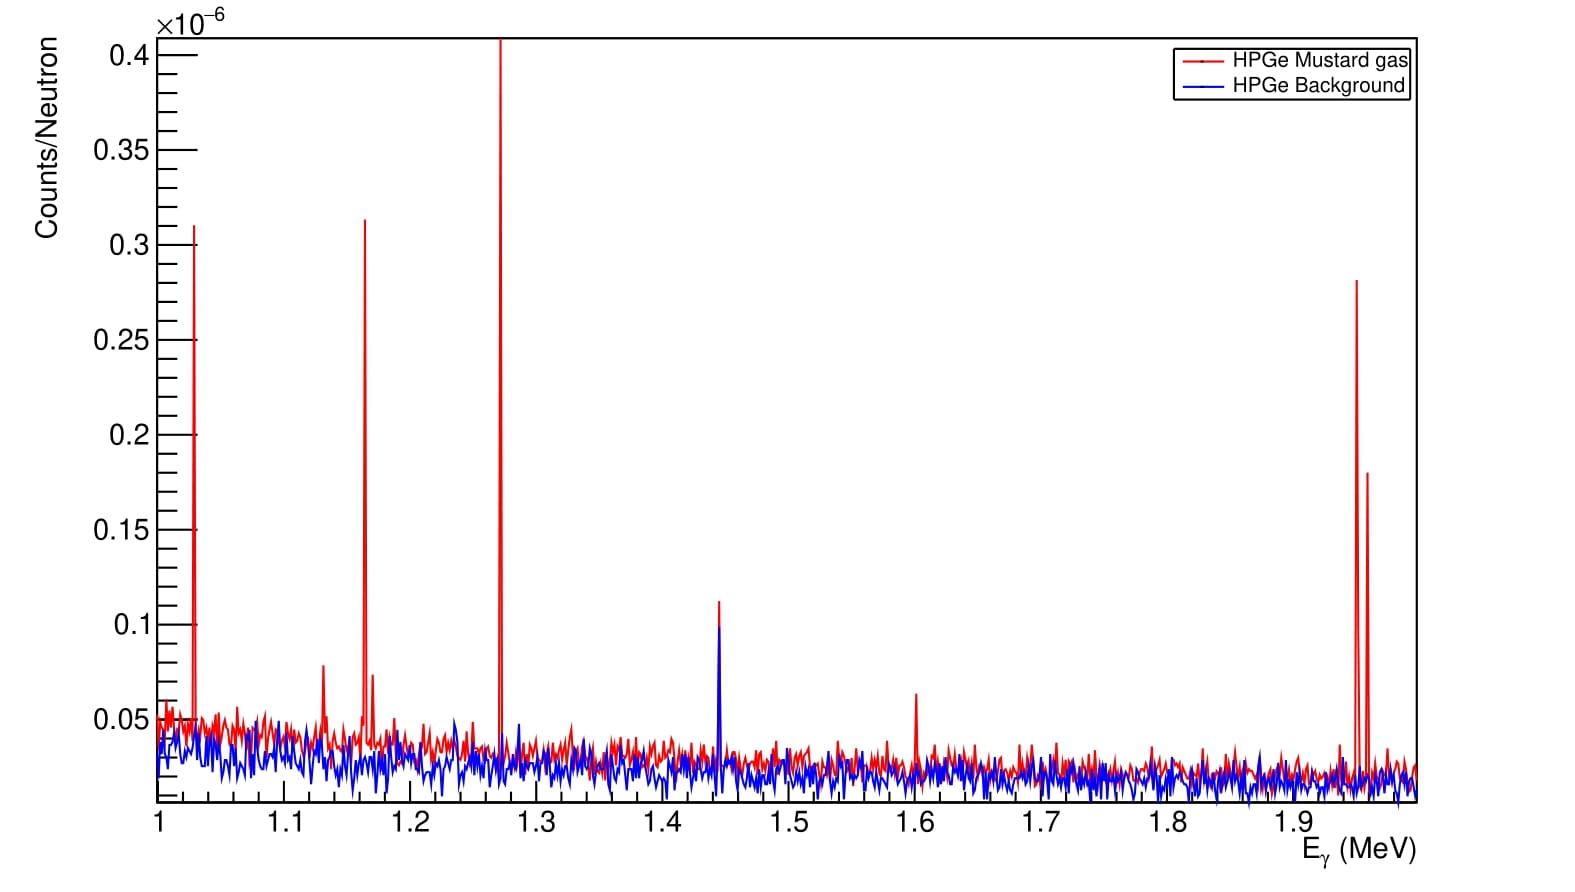gauss: (1331, 259, 1388, 799), (484, 42, 520, 777), (344, 216, 388, 765), (178, 215, 215, 786), (702, 593, 747, 786), (895, 688, 941, 789)
other: (219, 711, 691, 797), (954, 740, 1318, 794), (766, 734, 883, 801)
